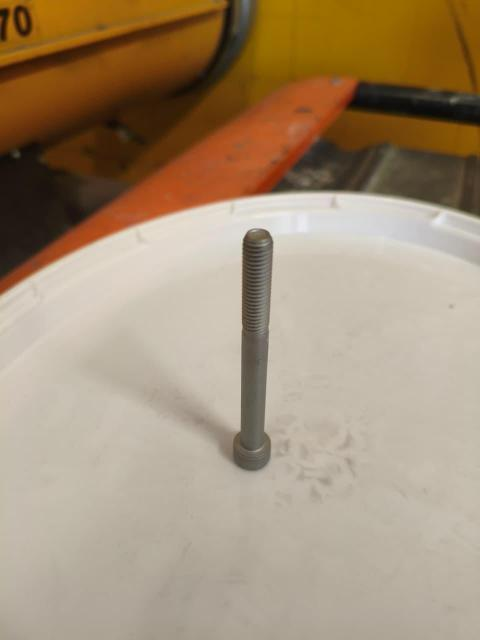Metal: (228, 227, 285, 467)
